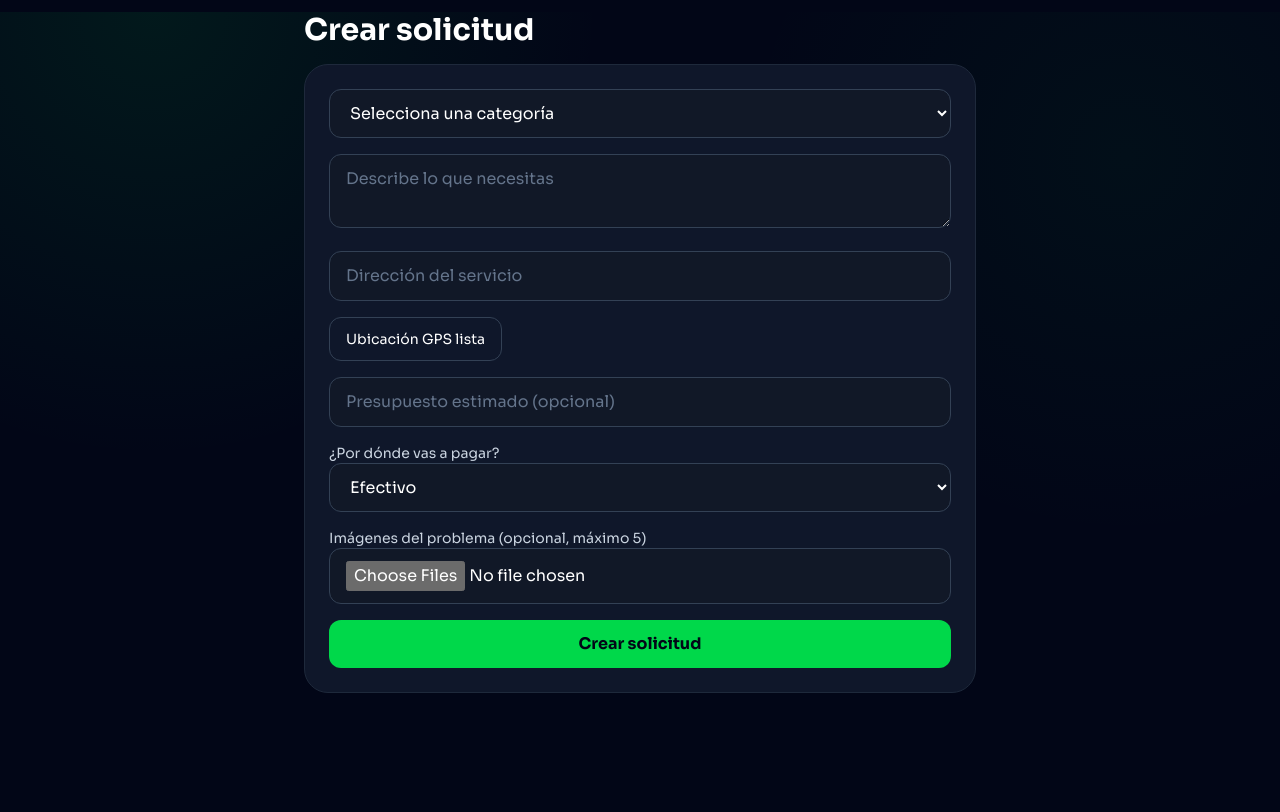
Test: CreateRequestPage › crea la solicitud usando ciudad del perfil y ubicación GPS
Select "Electricista" in the 1st dropdown: (640, 114) top-left (329, 89), bottom-right (951, 138)
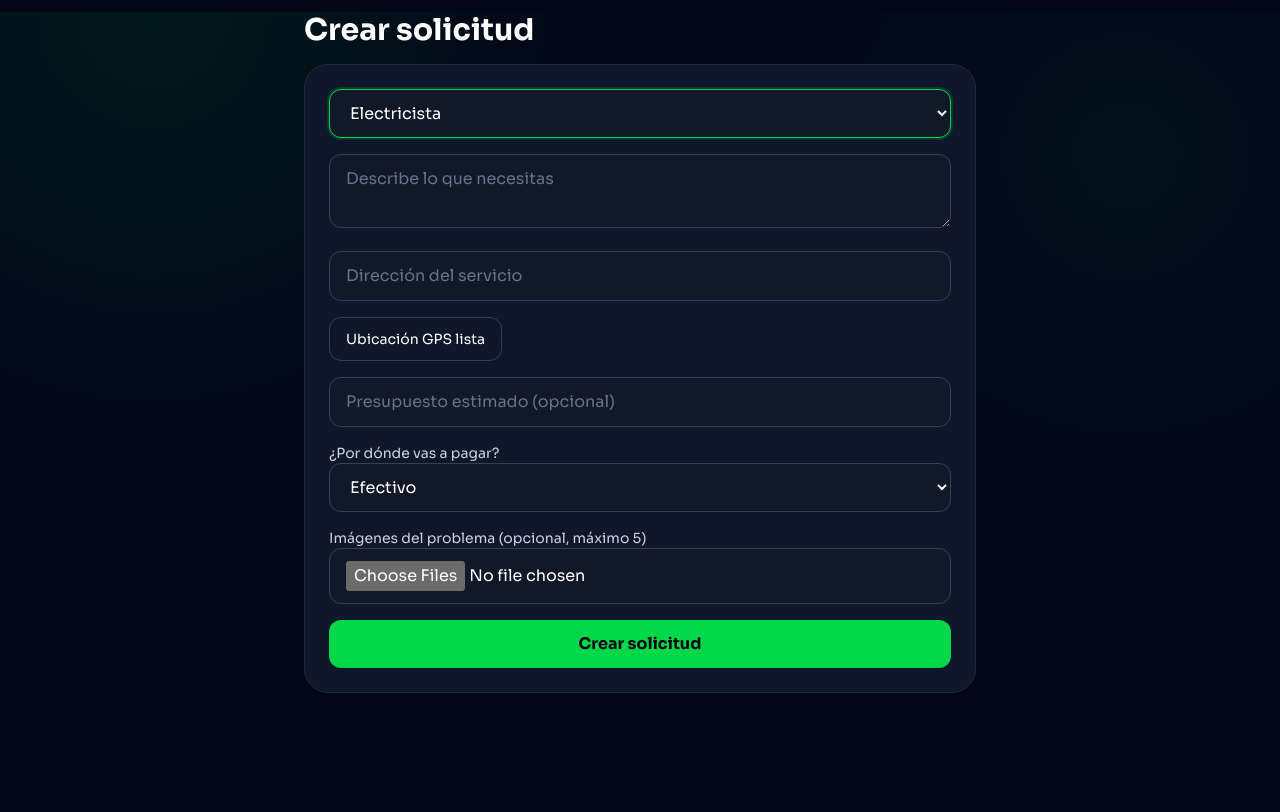
In the text box with placeholder "Describe lo que necesitas": (640, 191) top-left (329, 154), bottom-right (951, 228), type "Revisar tomacorriente"
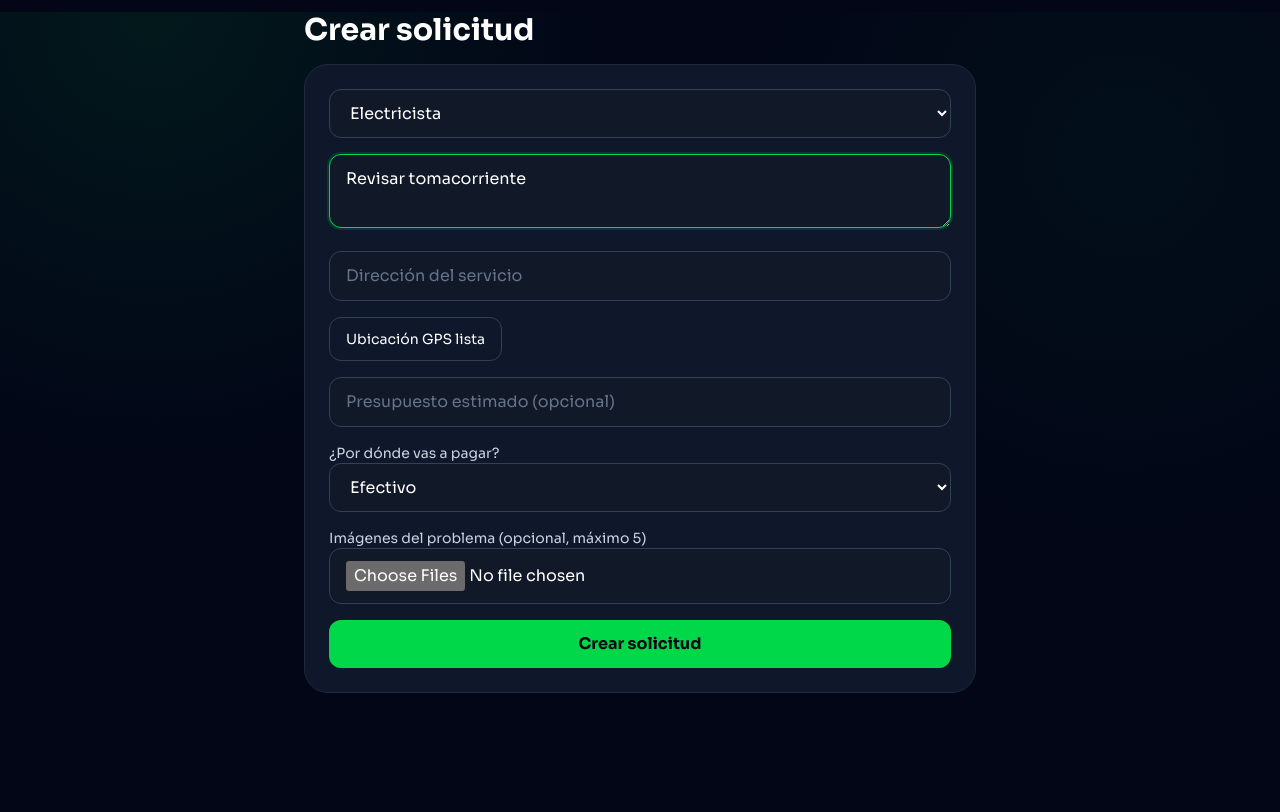
In the field with placeholder "Dirección del servicio": (640, 276) top-left (329, 251), bottom-right (951, 301), type "Calle 30 # 20-10"
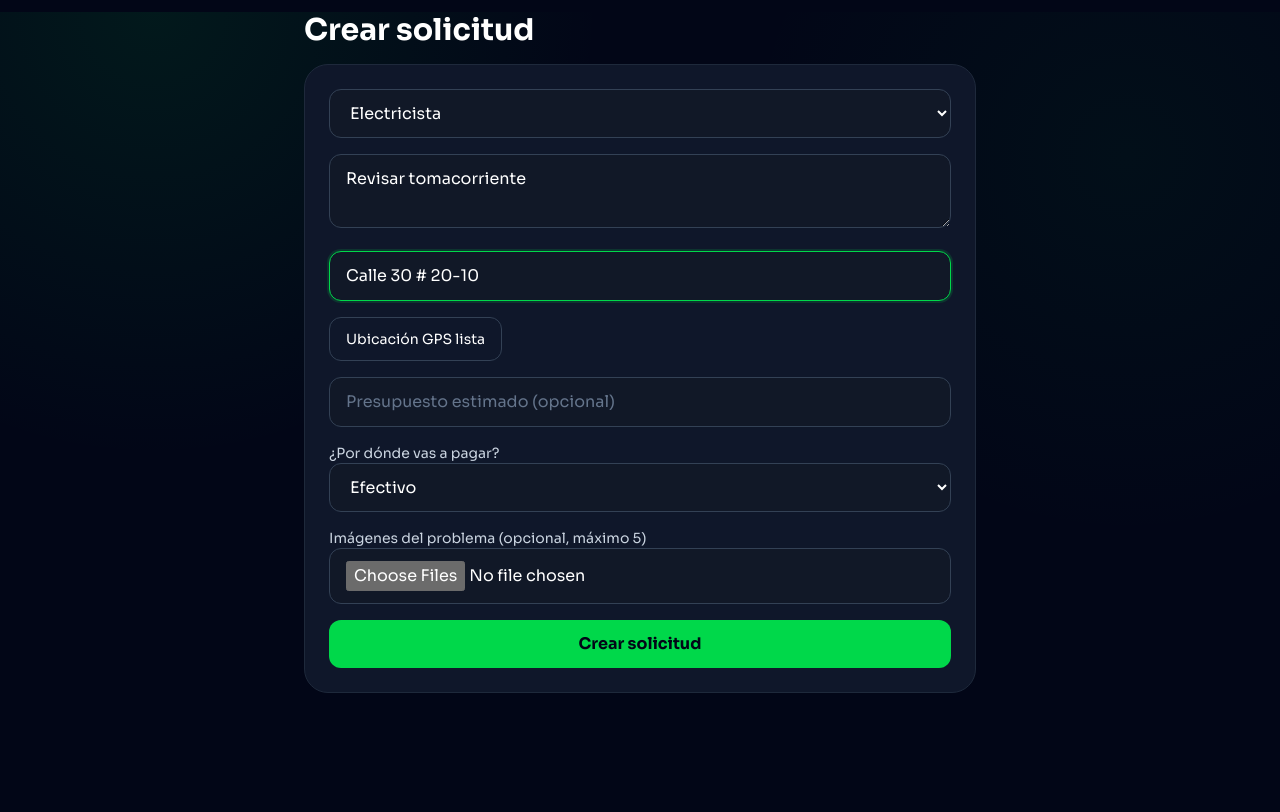
In the field with placeholder "Presupuesto estimado (opcional)": (640, 402) top-left (329, 377), bottom-right (951, 427), type "50000"
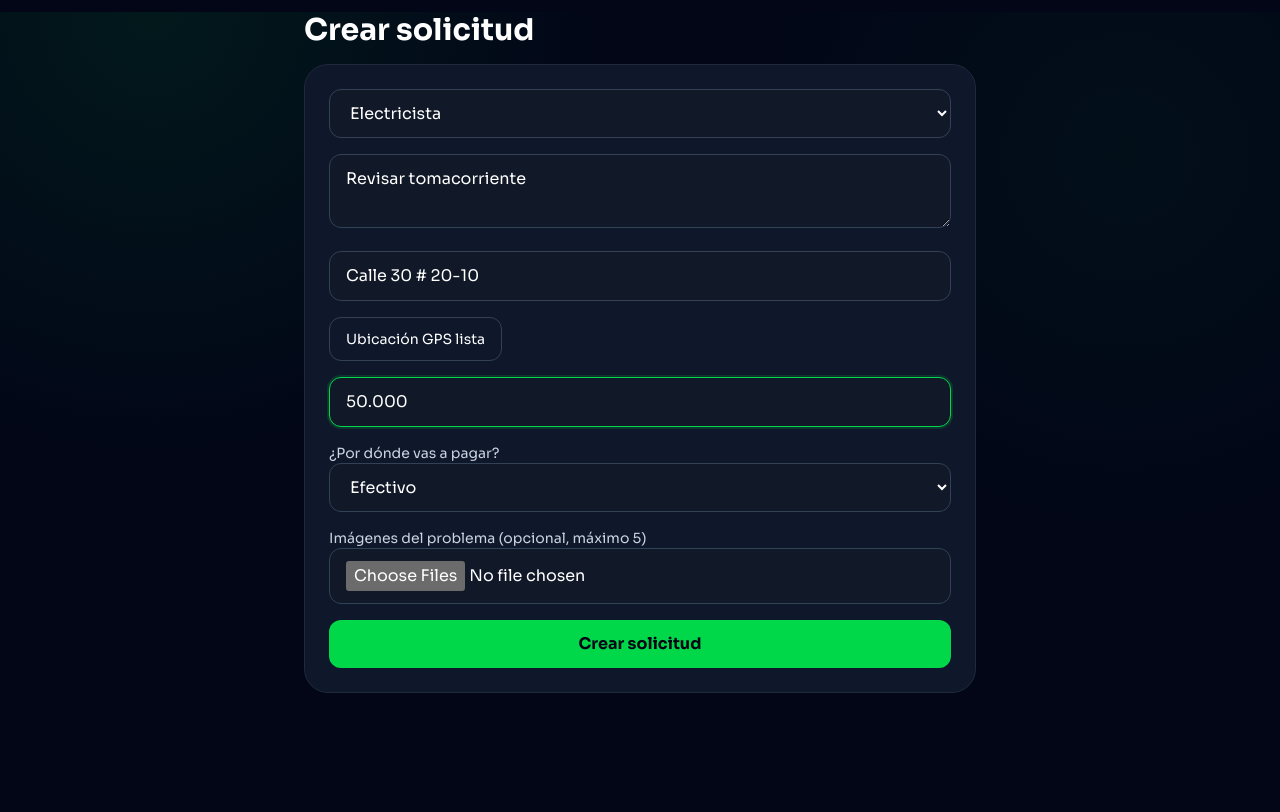
Click the button "Crear solicitud": (640, 644) top-left (329, 620), bottom-right (951, 668)
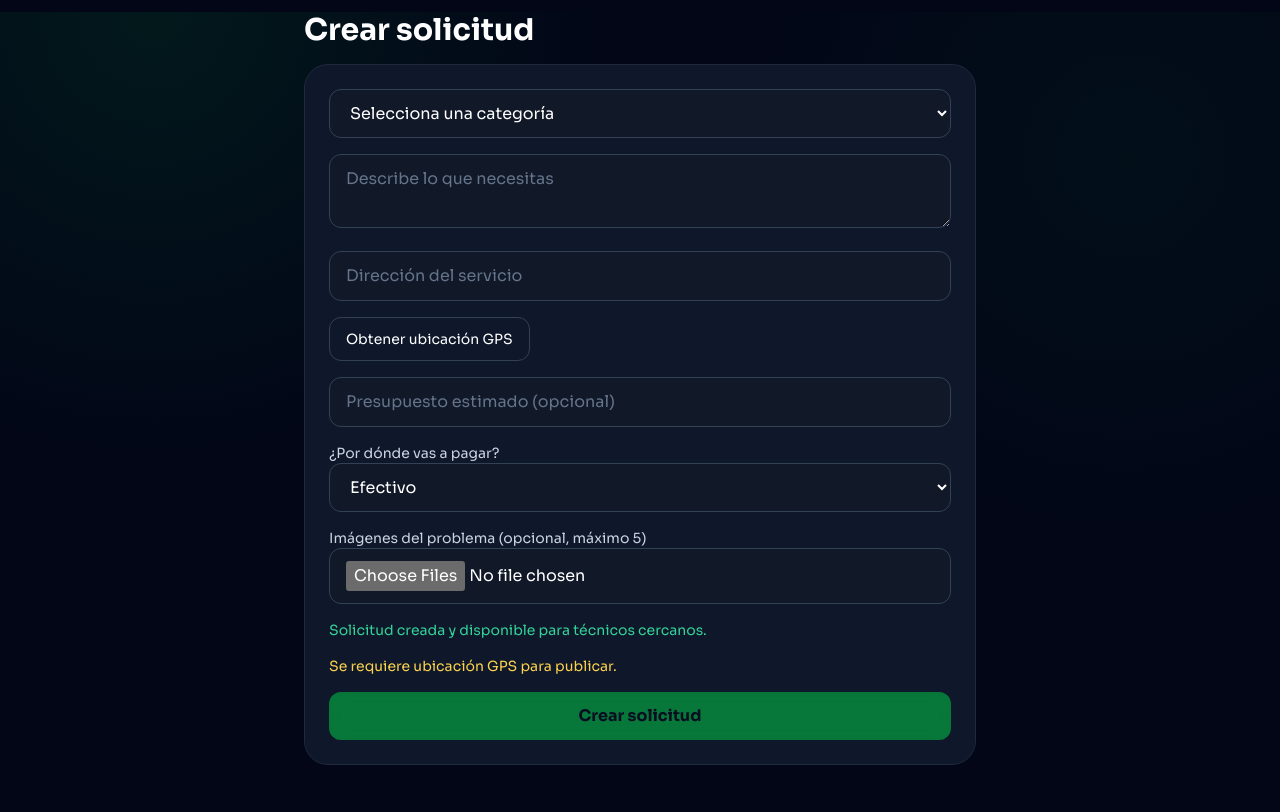
Expected: the text "Solicitud creada y disponible para técnicos cercanos." is shown, top-left (329, 621), bottom-right (707, 639)
